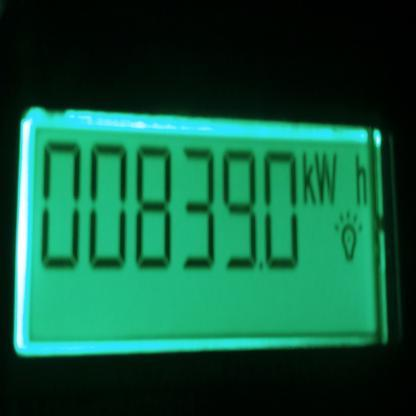.: (299, 149, 370, 209)
0: (255, 261, 267, 273)
1: (87, 139, 131, 273), (40, 136, 83, 269), (261, 147, 300, 271)
4: (181, 145, 221, 275)
9: (135, 139, 175, 271)
:: (220, 149, 257, 272)
